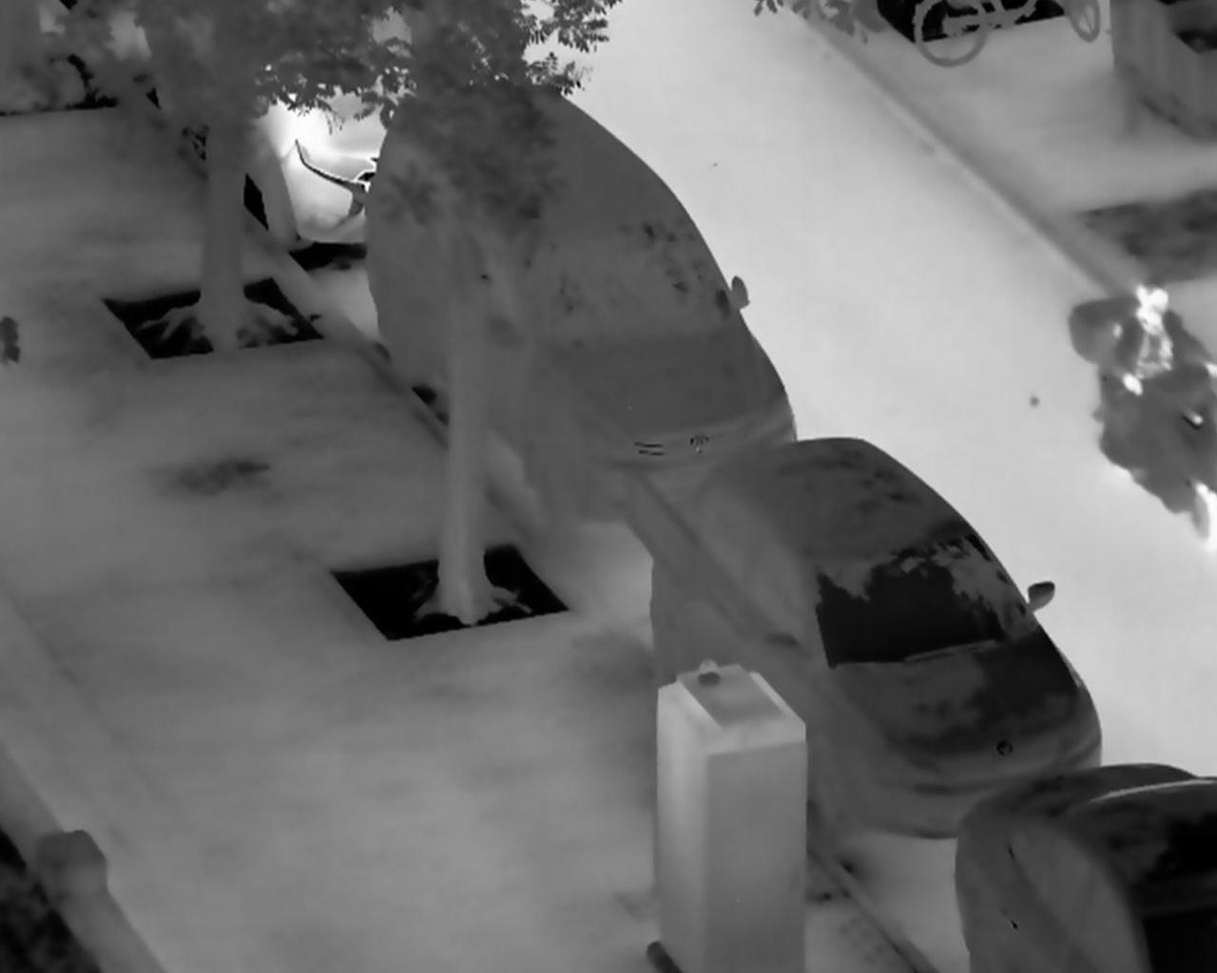person: (1099, 279, 1209, 471)
